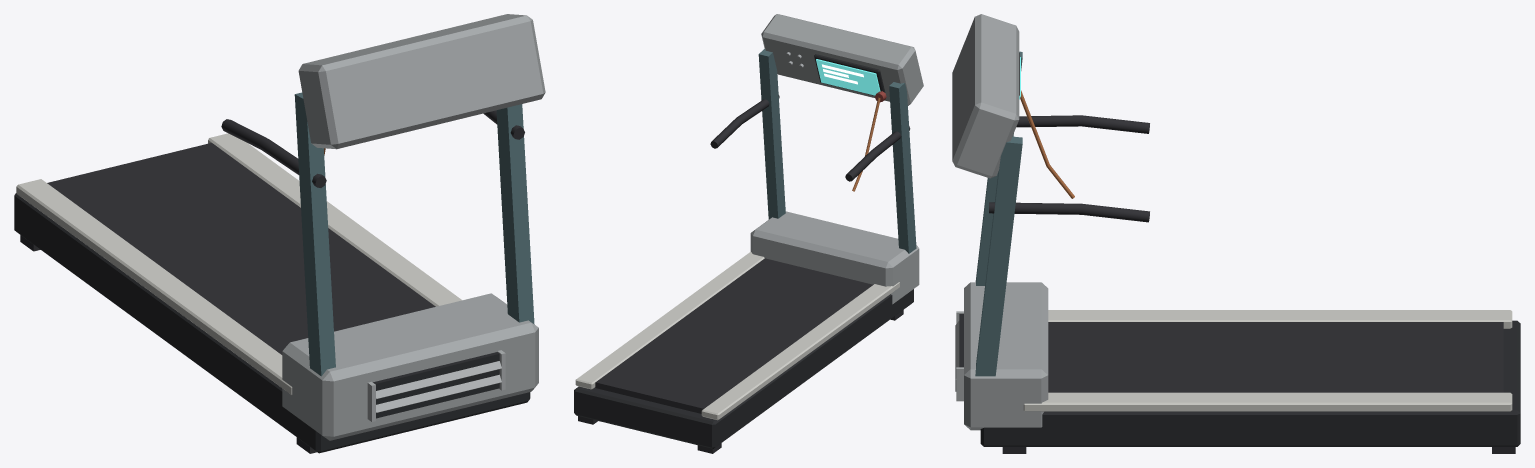
The model's file is astro_treadmill.fbx.
3 views of the same model, side by side, from view 1: azimuth 30°, elevation 25°; view 2: azimuth 150°, elevation 25°; view 3: azimuth 270°, elevation 25° (orthographic). The views are drawn at different scales.
Parts seen in each view (by area): view 1: Treadmill_Body; view 2: Treadmill_Body; view 3: Treadmill_Body.
Boxes of the visible parts, x1,y1,x2,y2 form: Treadmill_Body: (14, 14, 545, 453); Treadmill_Body: (574, 14, 923, 453); Treadmill_Body: (952, 14, 1520, 453).
Size of the model in its own units: 132 by 230 by 337.
